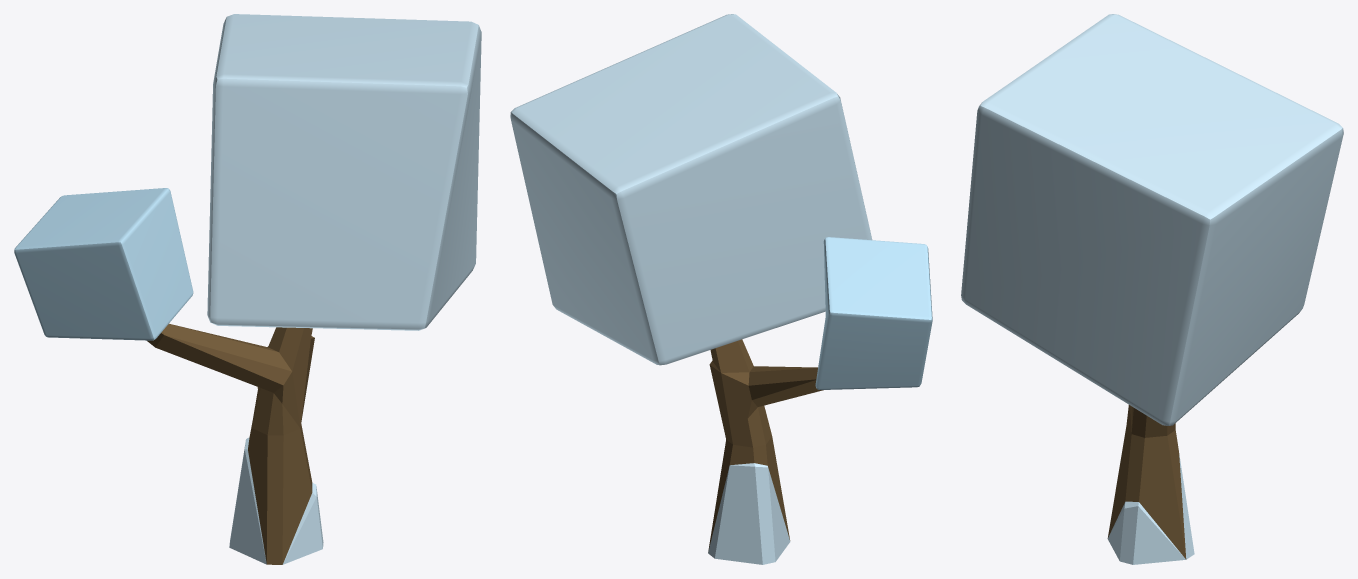
File: model_polytope_snow_tree02.fbx
3 views of the same model, side by side, from view 1: azimuth 30°, elevation 25°; view 2: azimuth 150°, elevation 25°; view 3: azimuth 270°, elevation 25° (orthographic). The views are drawn at different scales.
Visible parts, largest first — view 1: model_polytope_snow_tree09; view 2: model_polytope_snow_tree09; view 3: model_polytope_snow_tree09.
Boxes of the visible parts, x1,y1,x2,y2 form: model_polytope_snow_tree09: [14, 14, 481, 564]; model_polytope_snow_tree09: [510, 14, 932, 564]; model_polytope_snow_tree09: [961, 14, 1343, 564].
Bounding box in the file's own units: 326 × 337 × 235.
1 material, 1 textured.
